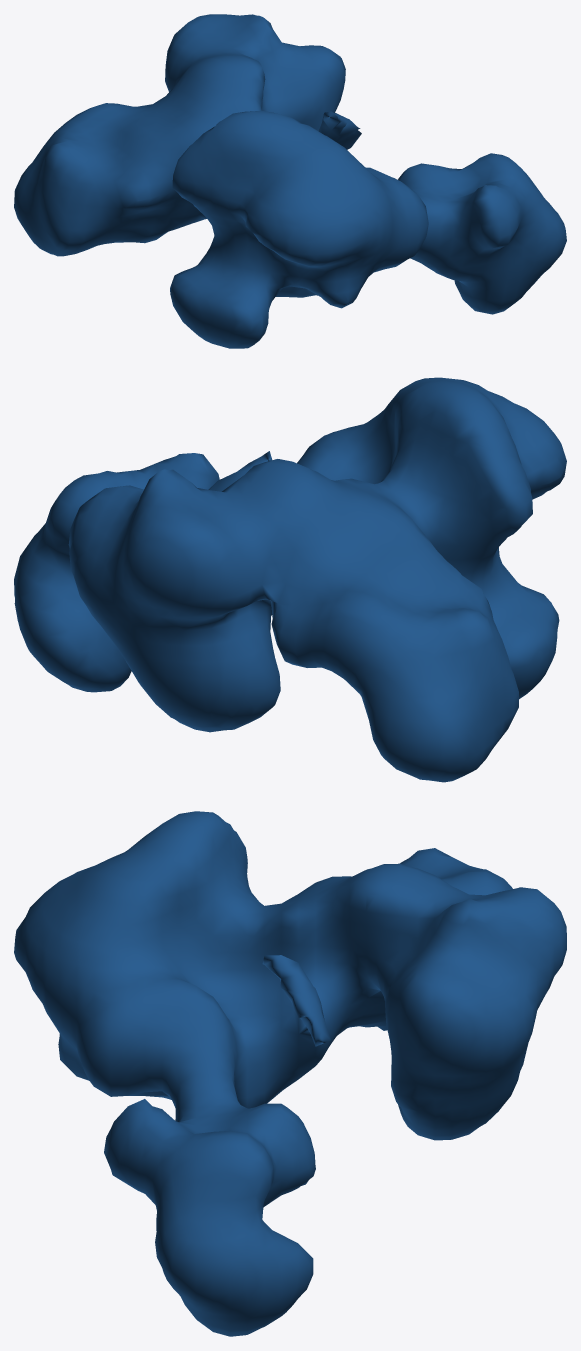
The model's file is 3DPX-000105.glb.
3 views of the same model, one above another, from view 1: azimuth 30°, elevation 25°; view 2: azimuth 150°, elevation 25°; view 3: azimuth 270°, elevation 25° (orthographic). The views are drawn at different scales.
Parts seen in each view (by area): view 1: surface; view 2: surface; view 3: surface.
Part boxes in pixels (bbox=[...]): surface: bbox=[14, 14, 566, 348]; surface: bbox=[14, 377, 566, 782]; surface: bbox=[14, 811, 566, 1336].
Bounding box in the file's own units: 109 × 64.36 × 91.43.
